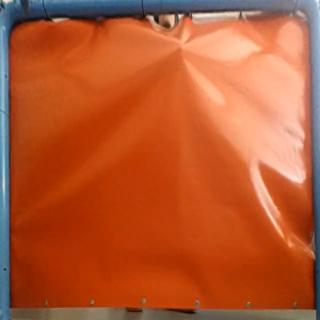Hit-hRxx: (174, 40, 193, 56)
